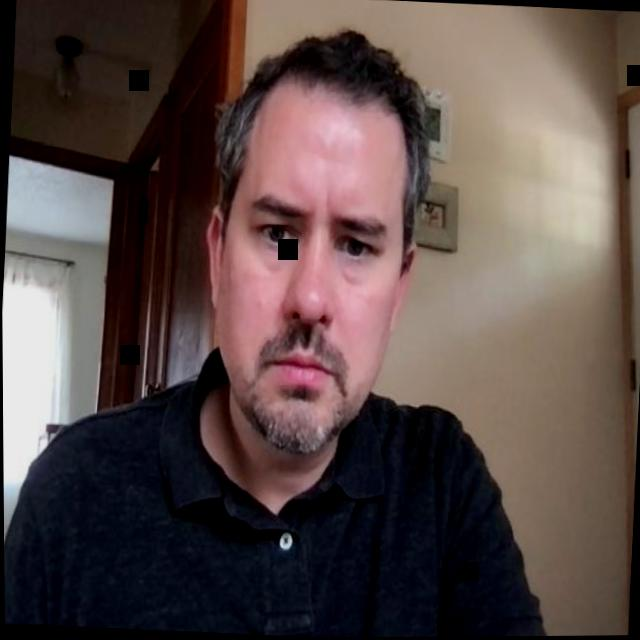NO-Mask: (196, 25, 435, 473)
